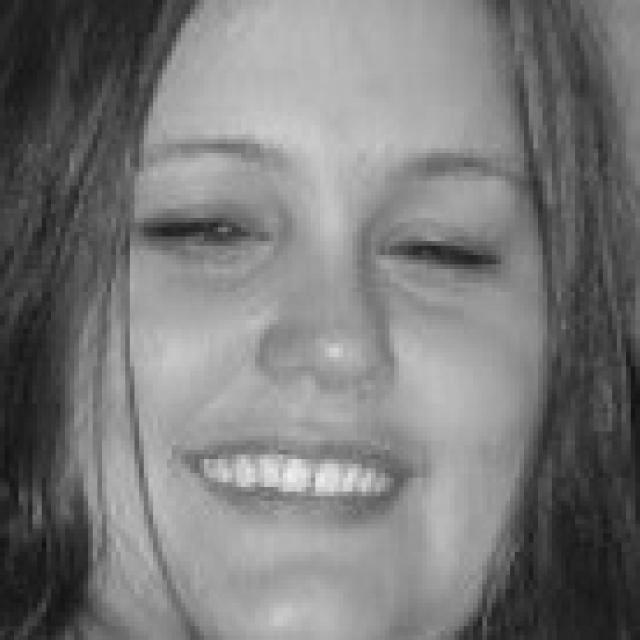real: (42, 6, 558, 640), (122, 180, 514, 301)
